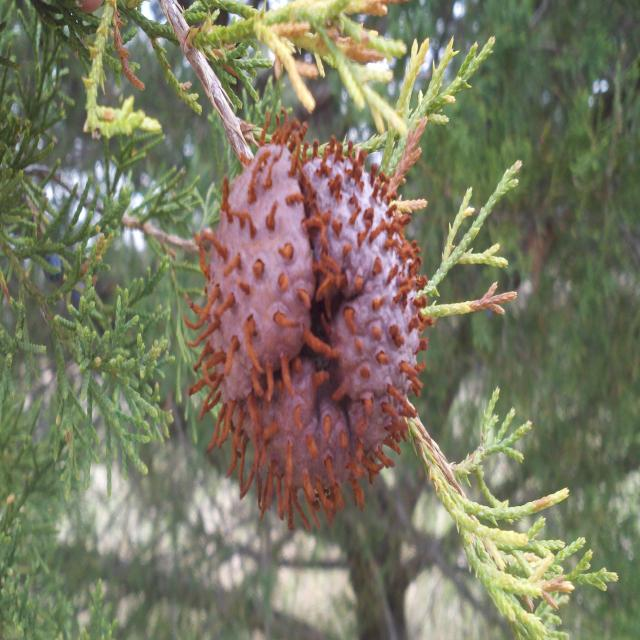Gymnosporangium_Rusts: (182, 106, 435, 534)
